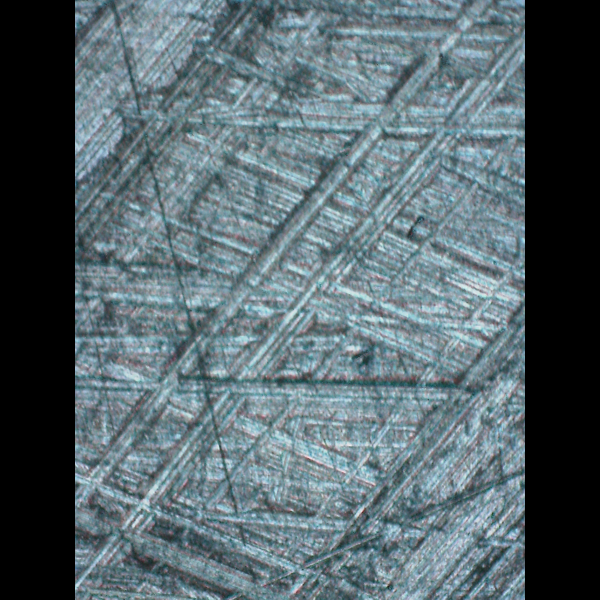d: (93, 54, 505, 533)
